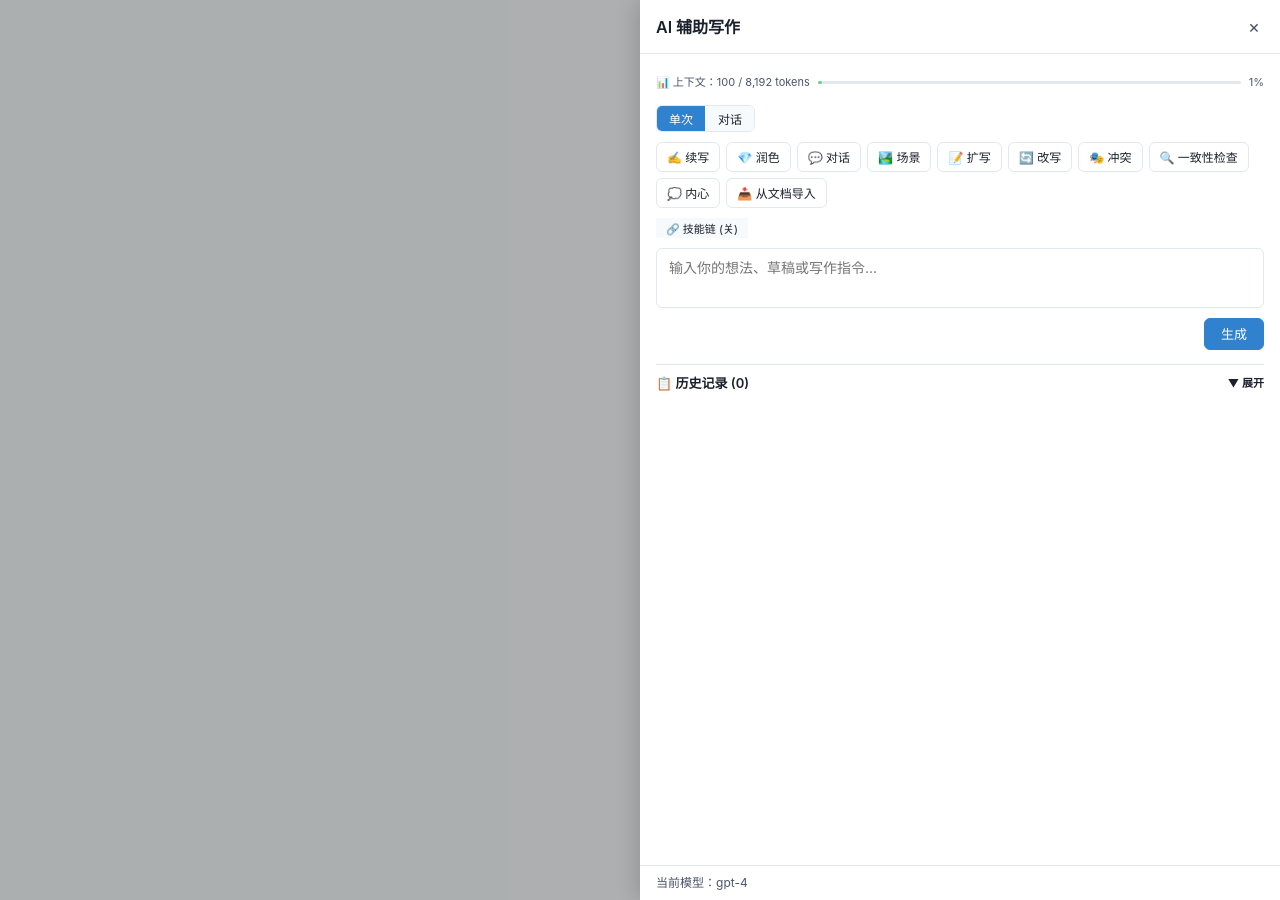
Test: AIAssistantPanel UI 单元测试 › shows "已取消生成" when cancel with no content
In the text box with placeholder "输入你的想法、草稿或写作指令...": (960, 278) [656, 248, 1264, 308], type "测试"
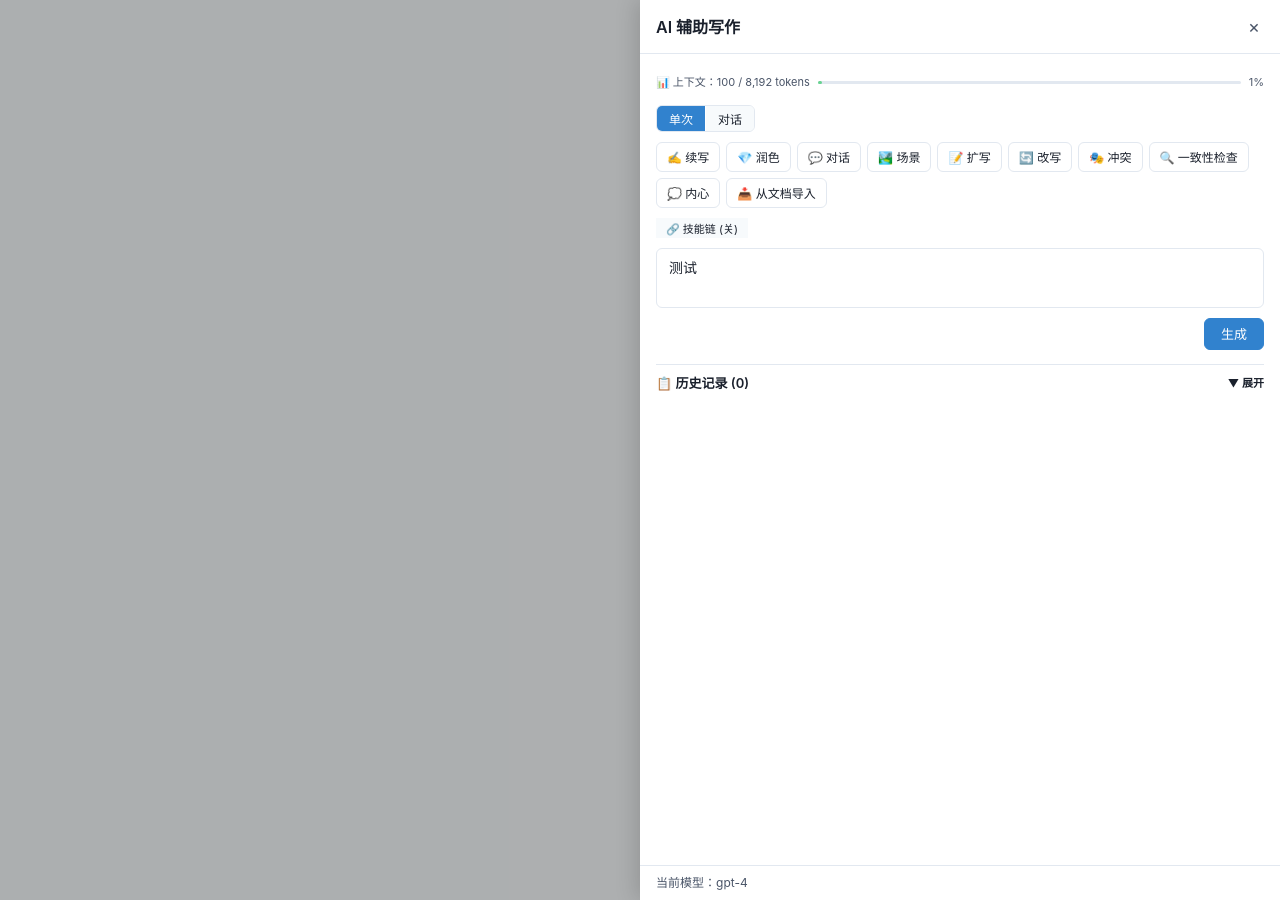
Click the button "生成": (1234, 334) [1204, 318, 1264, 350]
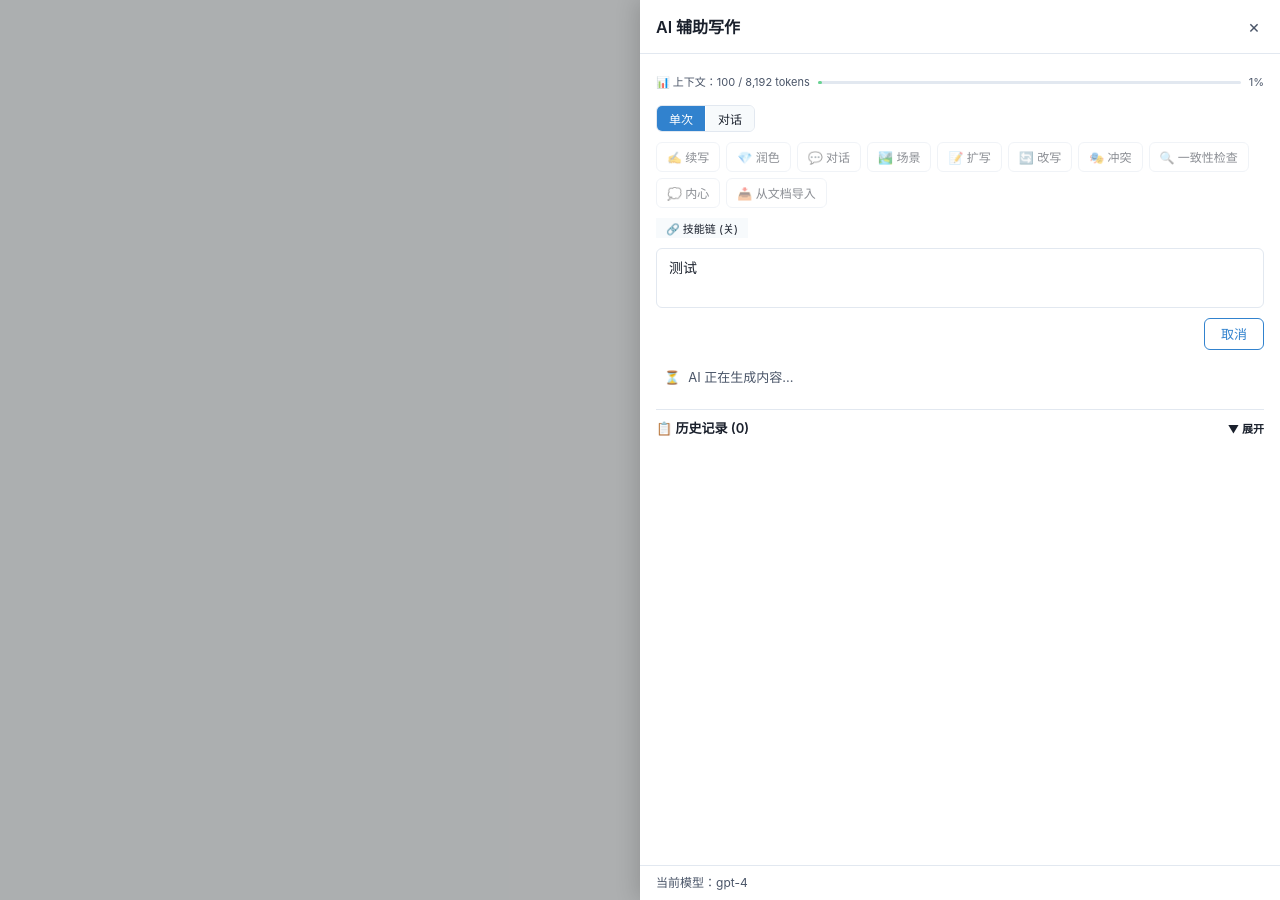
Click the button "取消": (1234, 334) [1204, 318, 1264, 350]
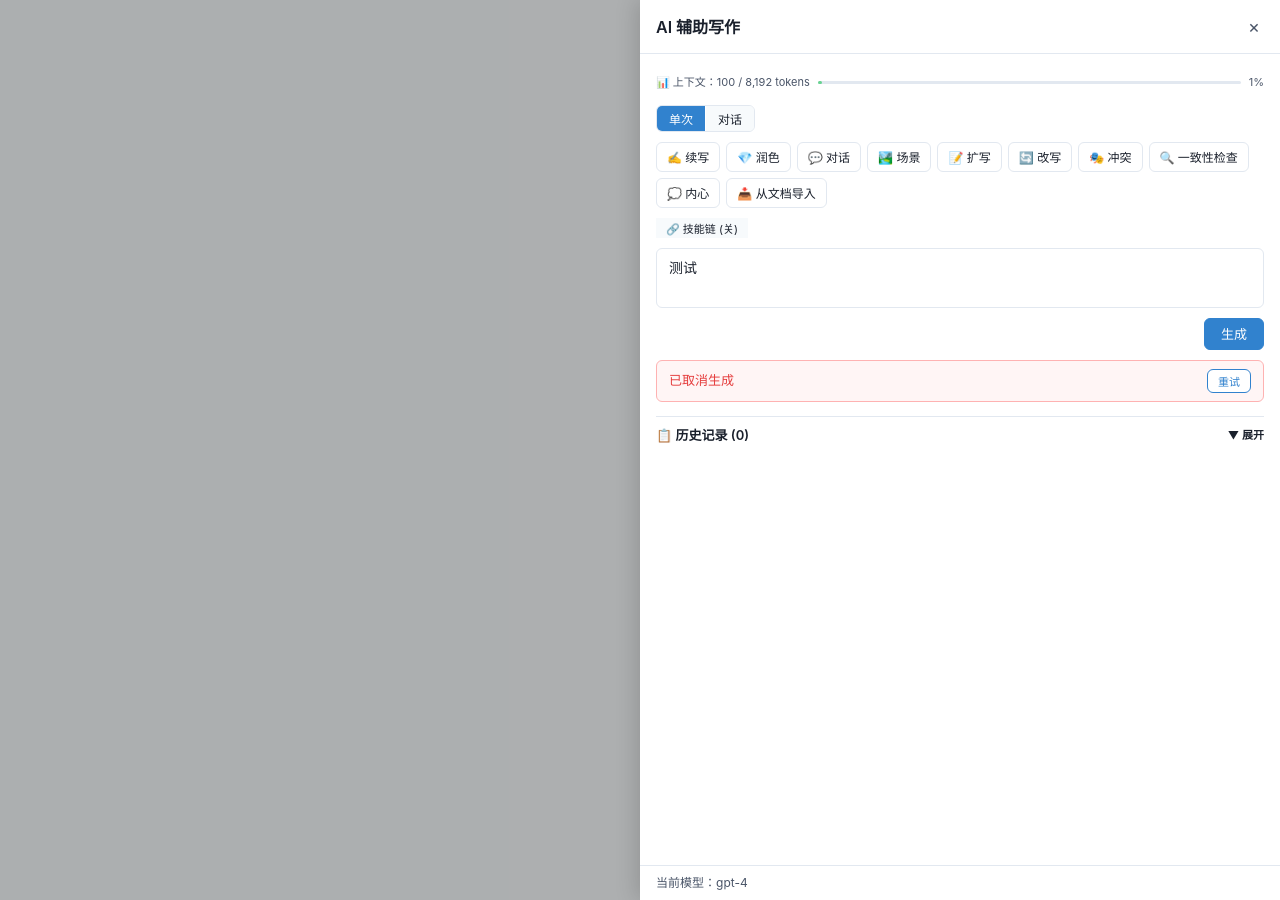
Result: the text "已取消生成" is shown at [669, 371, 734, 390]
